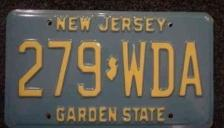2: (15, 40, 47, 99)
7: (47, 38, 74, 99)
9: (74, 40, 105, 98)
A: (177, 39, 205, 98)
D: (149, 40, 177, 99)
W: (121, 38, 148, 101)
